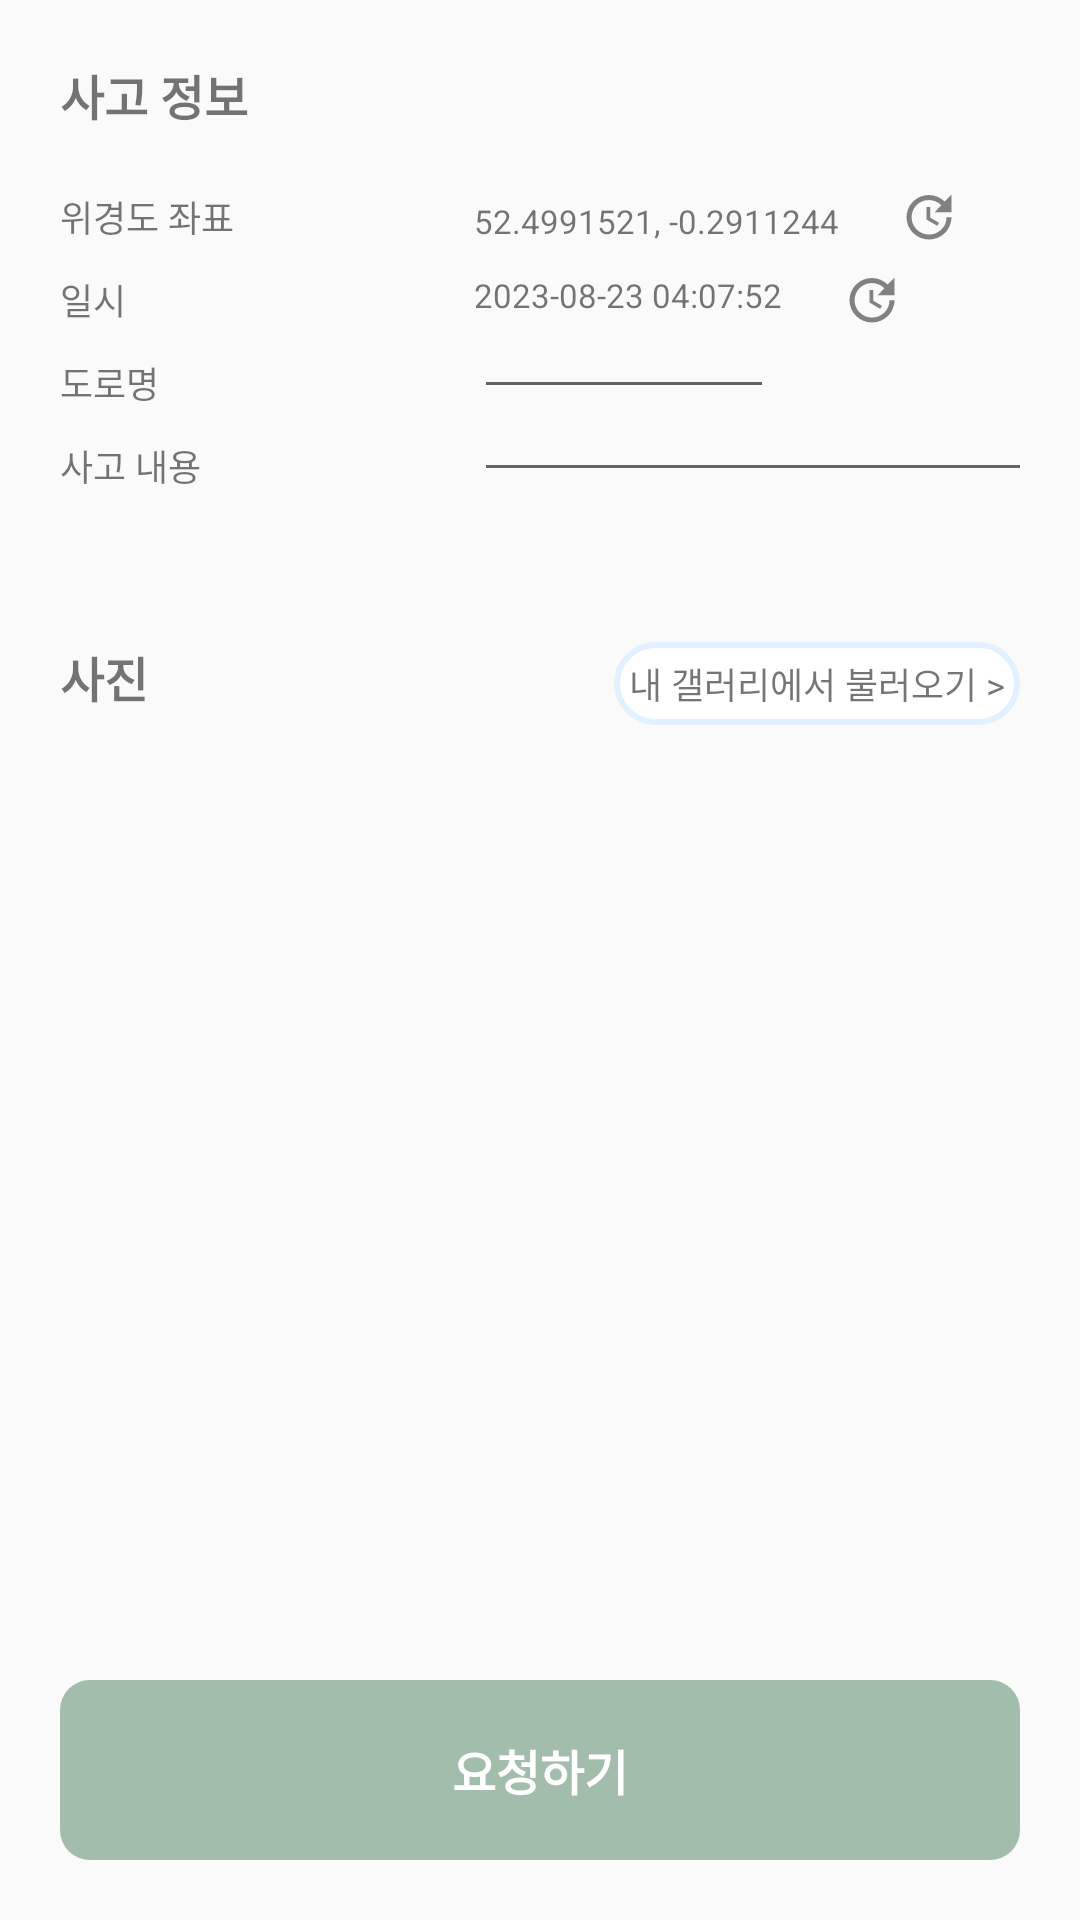

Named icons in this screenshot (1080 x 1920) and their centers, (x,y):
update: (929,217), (872,300)
